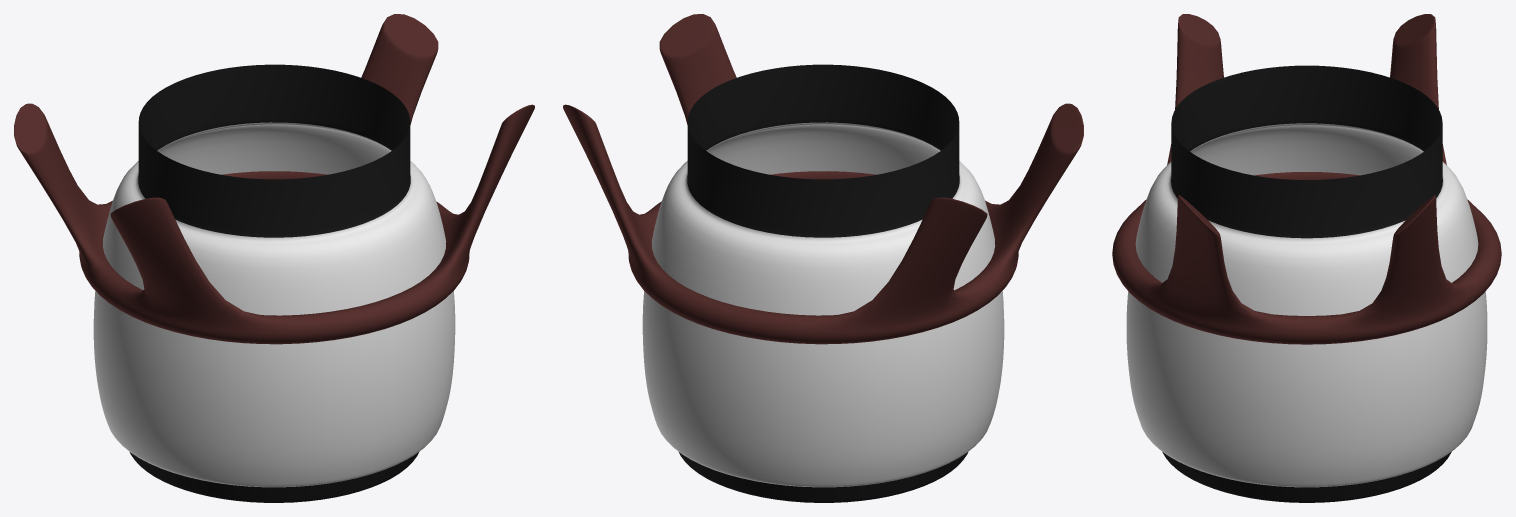
The model's file is engine.fbx.
3 views of the same model, side by side, from view 1: azimuth 30°, elevation 25°; view 2: azimuth 150°, elevation 25°; view 3: azimuth 270°, elevation 25° (orthographic).
Visible parts, largest first — view 1: Engine; view 2: Engine; view 3: Engine.
Boxes of the visible parts, left/top/right/bottom form: Engine: left=14, top=14, right=534, bottom=502; Engine: left=563, top=14, right=1083, bottom=502; Engine: left=1112, top=14, right=1501, bottom=502.
Size of the model in its own units: 66.25 by 50.4 by 53.1.
